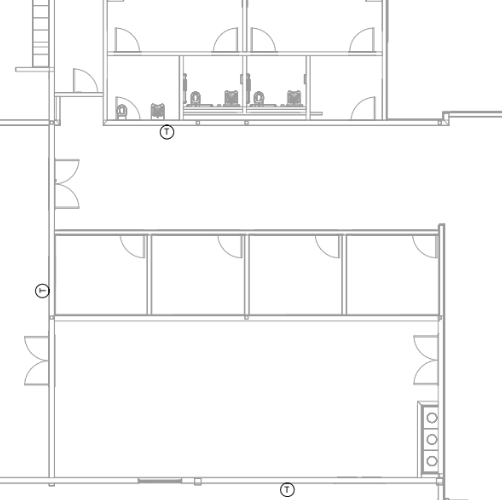door: (346, 25, 377, 57), (409, 231, 440, 262), (111, 26, 143, 56), (70, 66, 100, 97), (346, 95, 378, 124), (249, 26, 280, 55), (313, 231, 342, 261), (112, 95, 142, 124), (209, 26, 240, 54), (119, 233, 147, 263), (216, 233, 244, 262)
double door: (20, 332, 53, 390), (410, 333, 443, 388), (52, 156, 83, 211)
window: (131, 472, 188, 492)
